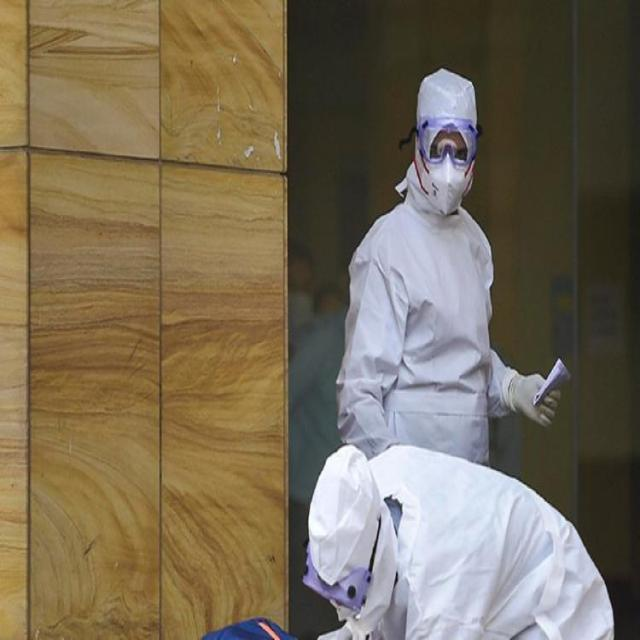Coverall: (361, 60, 492, 640), (219, 423, 568, 640)
Gloves: (507, 343, 566, 447)
Goggles: (286, 538, 385, 616), (417, 115, 486, 172)
Mask: (416, 152, 485, 223)
